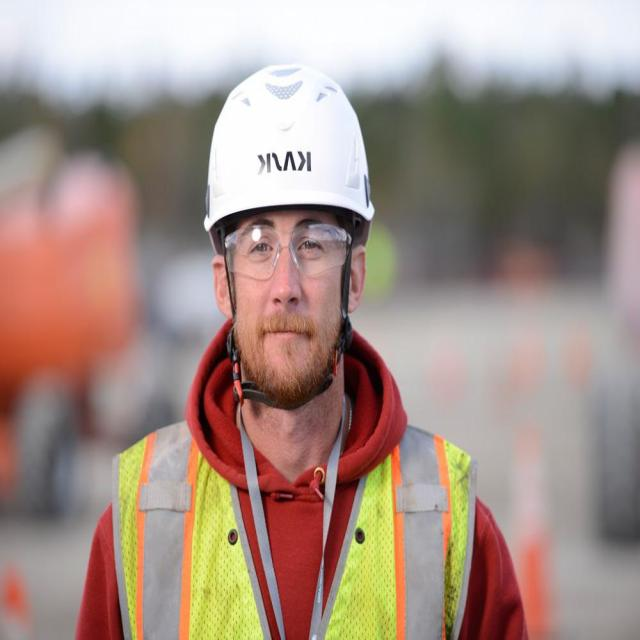Reflective-Jacket: (104, 372, 486, 636)
Safety-Helmet: (198, 56, 382, 235)
